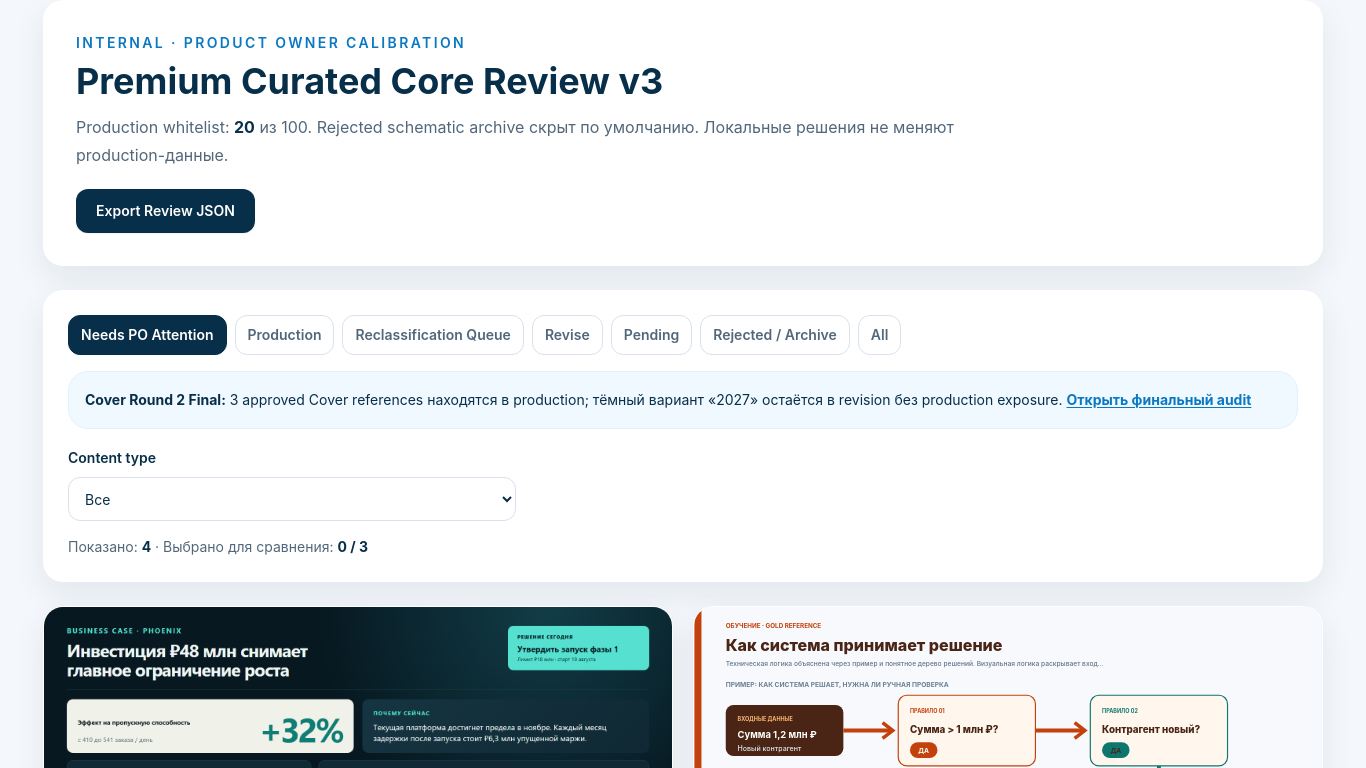
Test: Premium Curated Core Review v3 › separates Production, Revise and Archive dispositions
Step 1. Click the button "Production" → (284, 335), box [234,315,334,355]
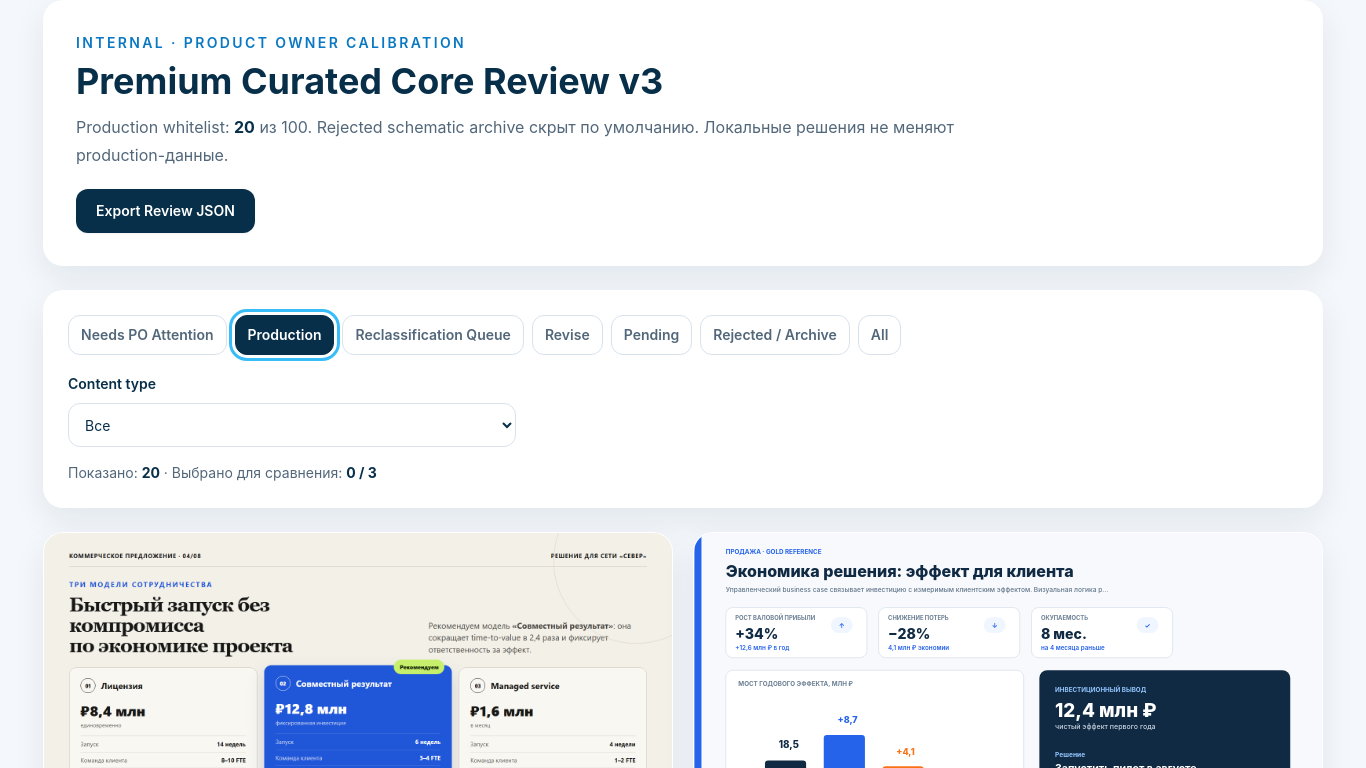
Step 2. Click the button "Revise" → (567, 335), box [532,315,603,355]
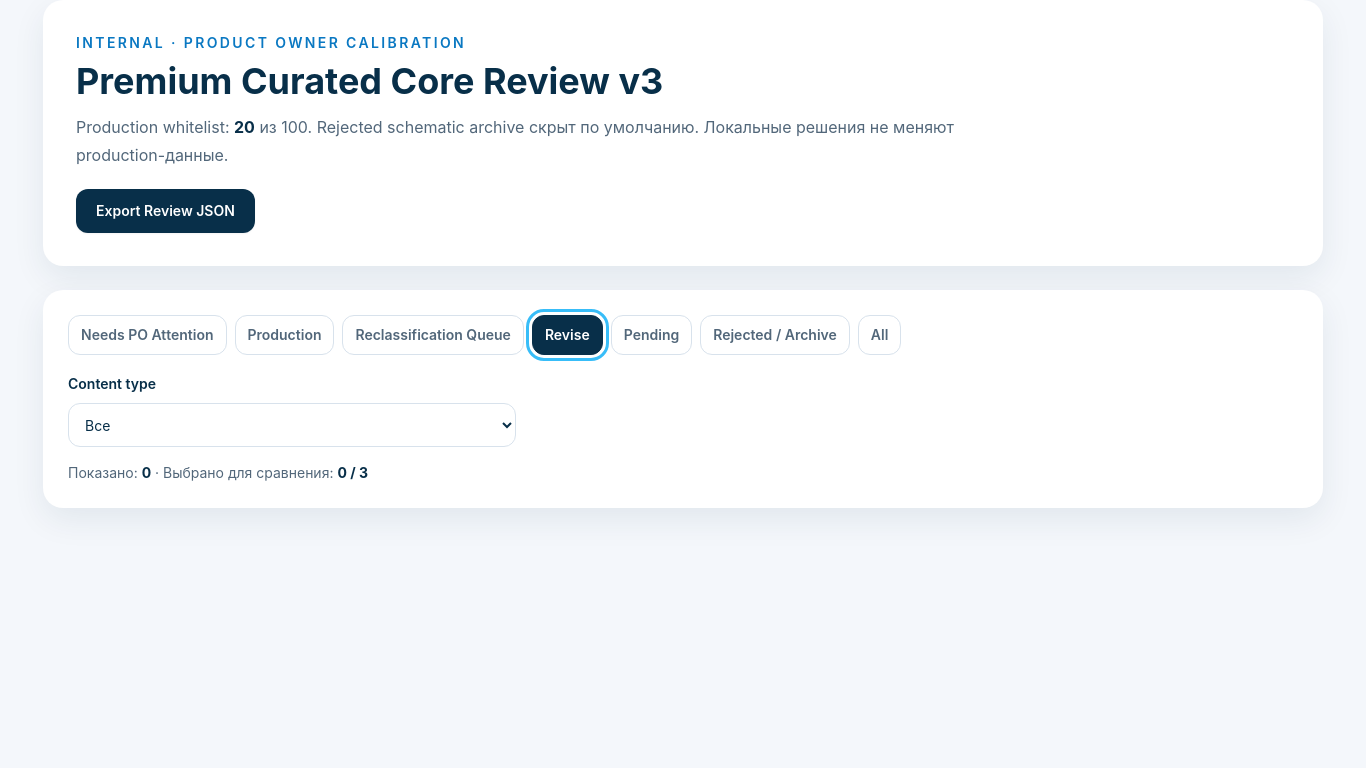
Step 3. Click the button "Rejected / Archive" → (775, 335), box [700,315,850,355]
(page scrolled)
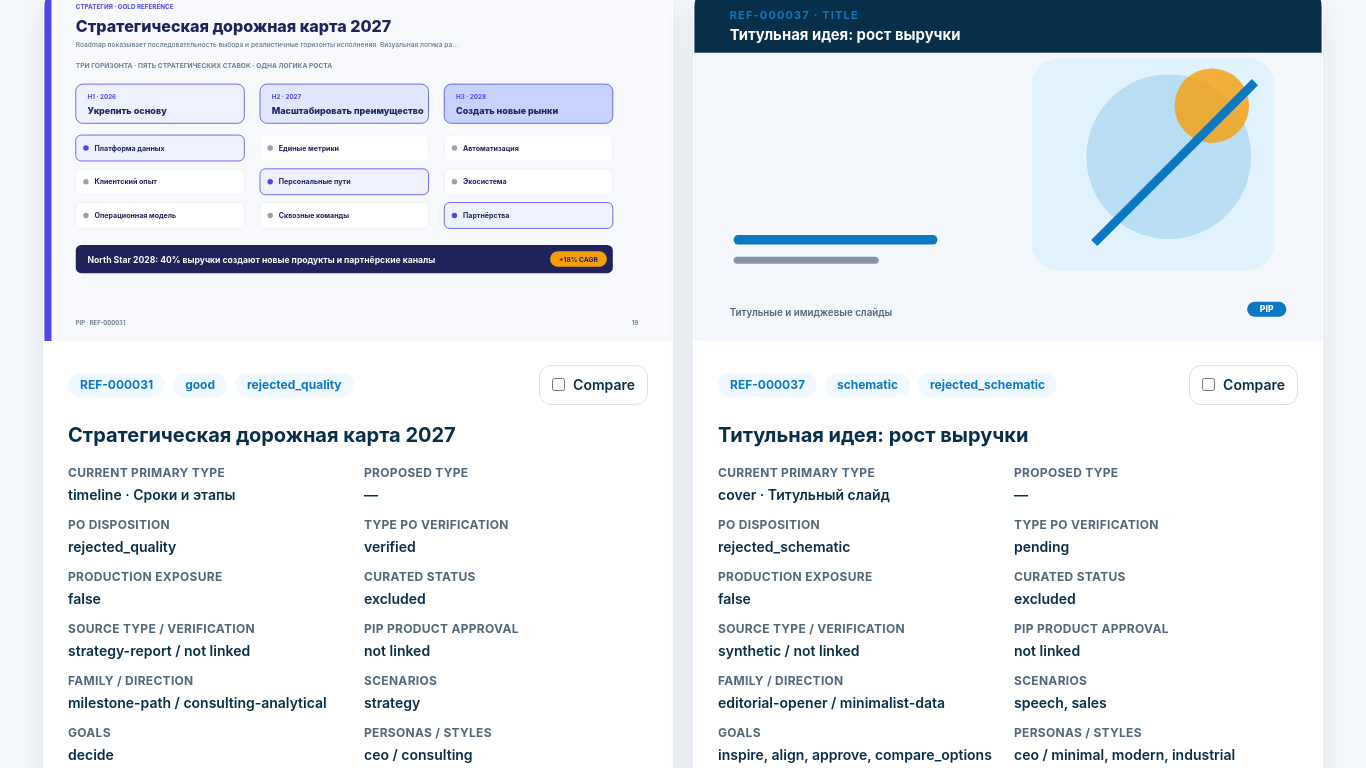
Now the text "REF-000031" is shown, box [68,373,165,397]
